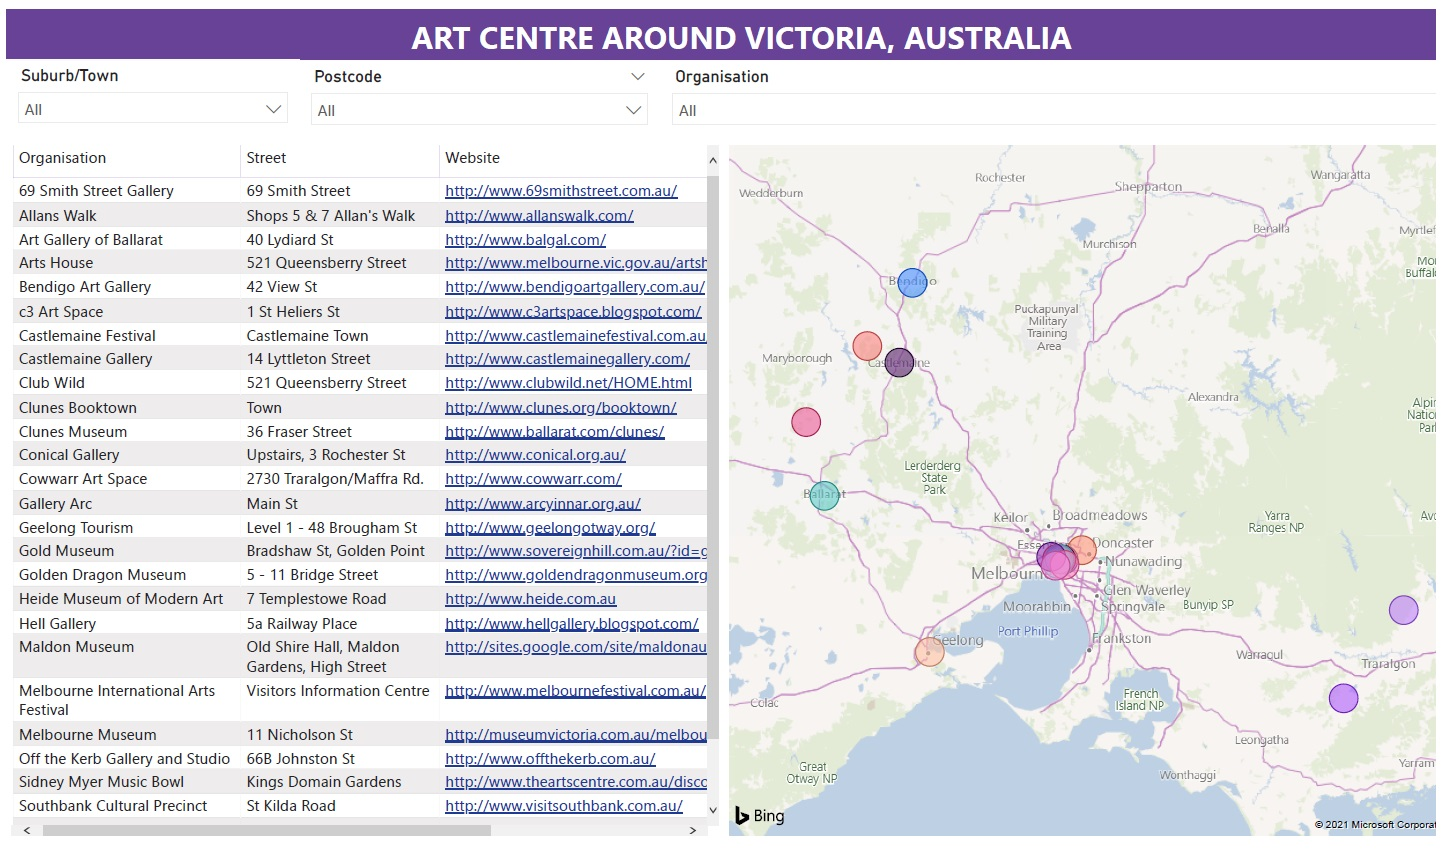

This screenshot's page, from the dashboard's own definition file:
{"tool":"powerbi","page":{"name":"Page 1","canvas":[1280,720],"ordinal":0},"visuals":[{"type":"tableEx","fields":{"Values":["tmp6zu5_RArt_Spaces_List.Organisation","tmp6zu5_RArt_Spaces_List.Street","tmp6zu5_RArt_Spaces_List.Website"]},"box":[0,113,621,607],"z":0},{"type":"textbox","box":[0,0,1280,44],"z":1},{"type":"slicer","fields":{"Values":["tmp6zu5_RArt_Spaces_List.Suburb/Town"]},"box":[0,44,254,69],"z":2},{"type":"slicer","fields":{"Values":["tmp6zu5_RArt_Spaces_List.Postcode"]},"box":[254,45,312,68],"z":3},{"type":"map","fields":{"Series":["tmp6zu5_RArt_Spaces_List.Location"],"Category":["tmp6zu5_RArt_Spaces_List.Location"]},"box":[621,113,659,607],"z":4},{"type":"slicer","fields":{"Values":["tmp6zu5_RArt_Spaces_List.Organisation"]},"box":[566,45,714,68],"z":5}]}

Visuals, with their boxes on the page's 1280x720 design canvas (x1, y1, x2, y2). These are canvas units, not pixel positions in the 1450x853 screenshot, which may show the page scaled, cropped or inside an application window:
tableEx - tmp6zu5_RArt_Spaces_List.Organisation x tmp6zu5_RArt_Spaces_List.Street: crop(0, 113, 621, 720)
textbox: crop(0, 0, 1280, 44)
slicer - tmp6zu5_RArt_Spaces_List.Suburb/Town: crop(0, 44, 254, 113)
slicer - tmp6zu5_RArt_Spaces_List.Postcode: crop(254, 45, 566, 113)
map - tmp6zu5_RArt_Spaces_List.Location x tmp6zu5_RArt_Spaces_List.Location: crop(621, 113, 1280, 720)
slicer - tmp6zu5_RArt_Spaces_List.Organisation: crop(566, 45, 1280, 113)
